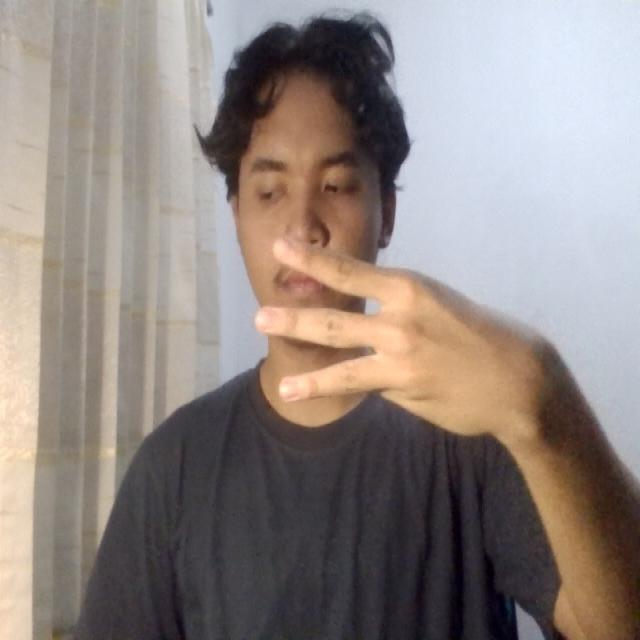E: (240, 211, 523, 473)
